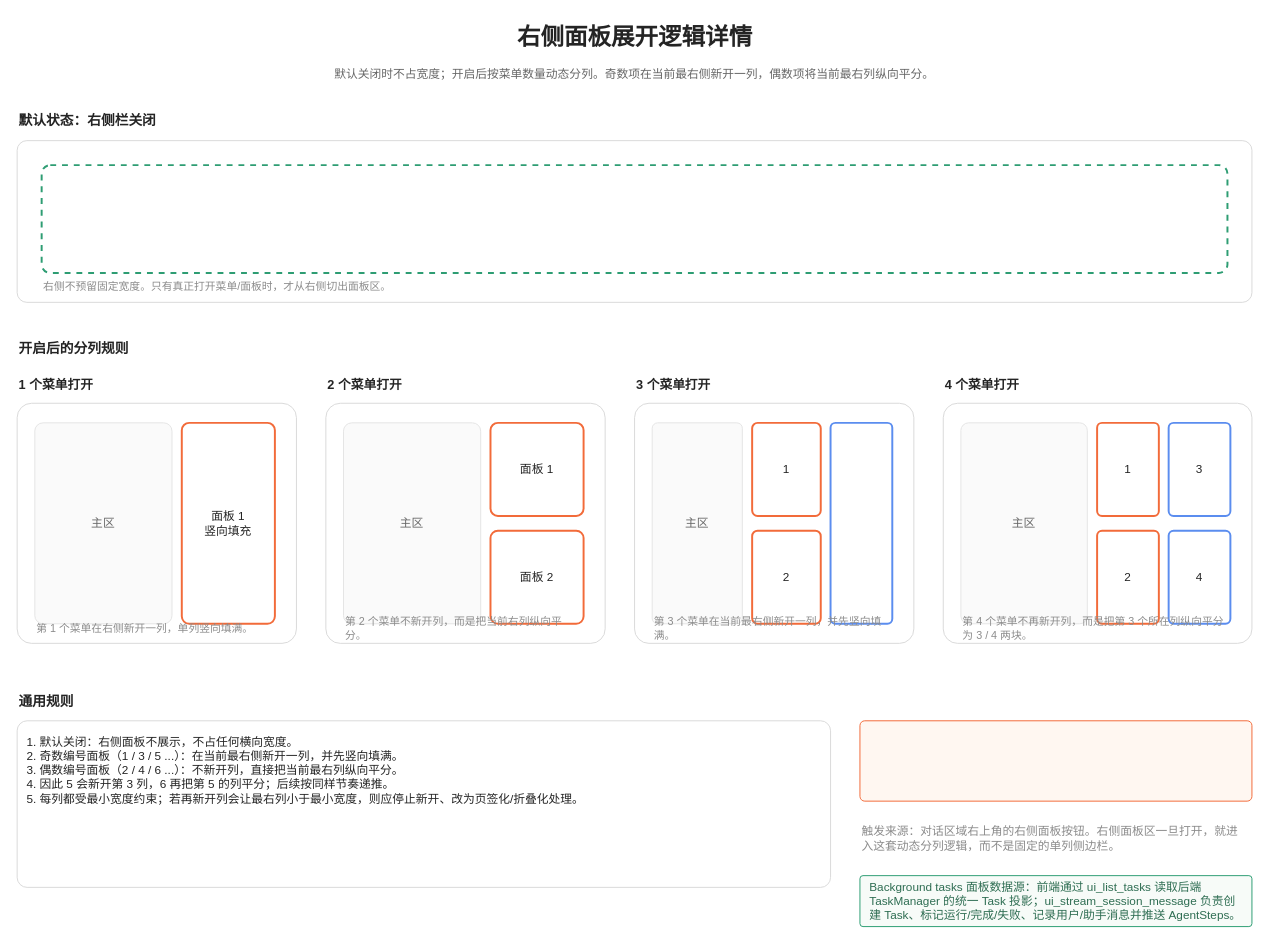
Some shapes in this 1269 by 944 pixel diagram are drawn without their labels. The box of each missing label's shape, as (x1, y1, x2, y2) in pixels:
对话区域 / 对话输入区 / 多功能栏横向填满: (40, 164, 1228, 273)
最小宽度约束建议：每个面板区域不得窄于可用交互宽度；触发阈值后不要再硬分列，而要切换为标签堆叠、折叠或二级切换。: (859, 720, 1252, 801)
面板 3 新右列: (829, 421, 893, 624)
